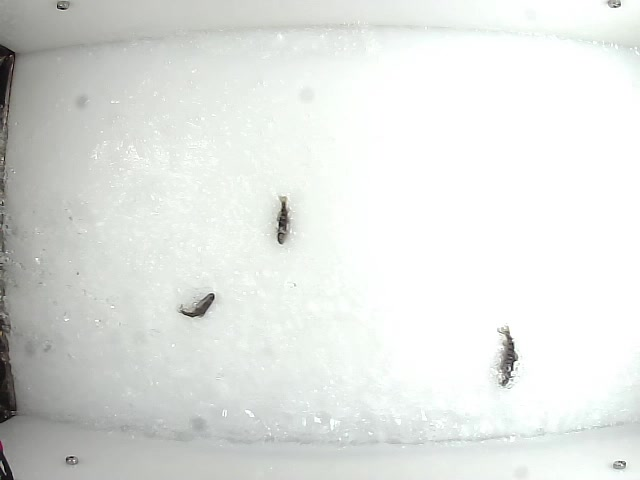fish: (494, 325, 521, 388), (177, 292, 217, 319), (274, 194, 291, 246)
